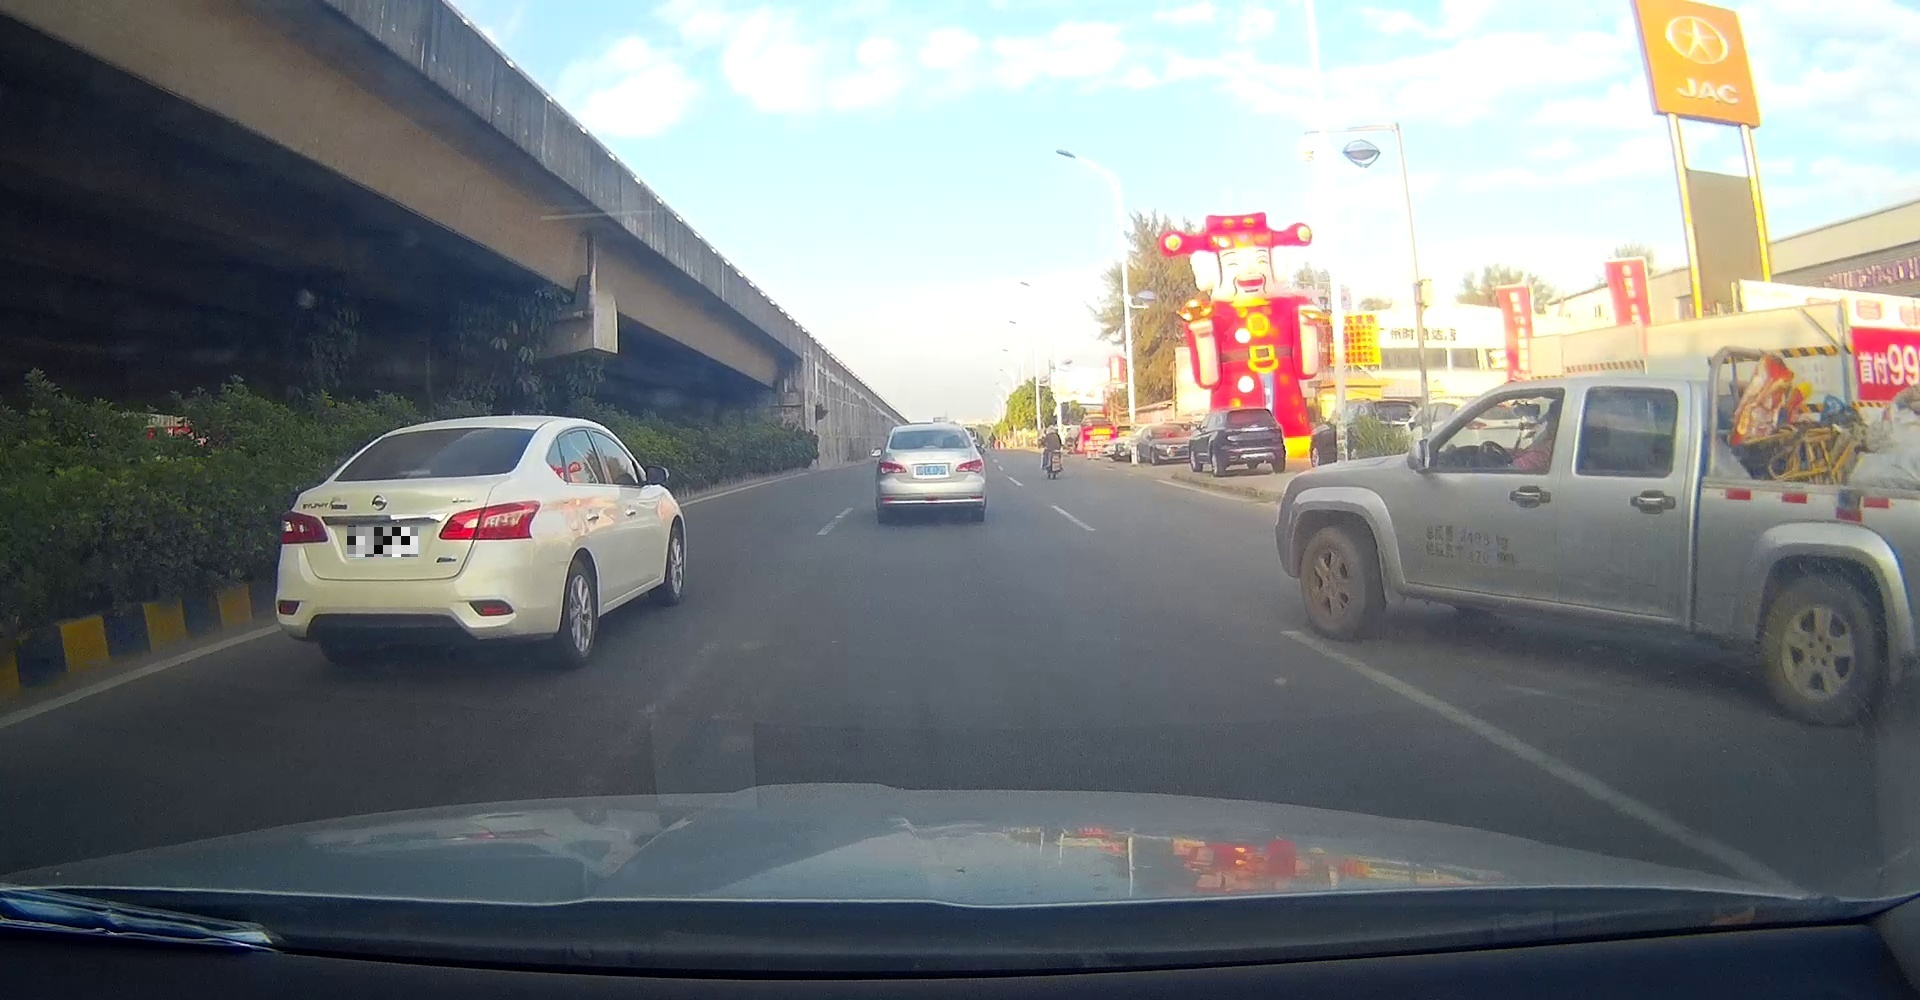L_light: (279, 509, 328, 544), (879, 459, 907, 475)
R_light: (439, 500, 540, 539), (956, 457, 983, 472)
T_light: (395, 468, 430, 477), (921, 445, 938, 448)
day-no: (274, 414, 540, 661), (876, 423, 985, 523)
plate_1: (347, 527, 418, 557)
